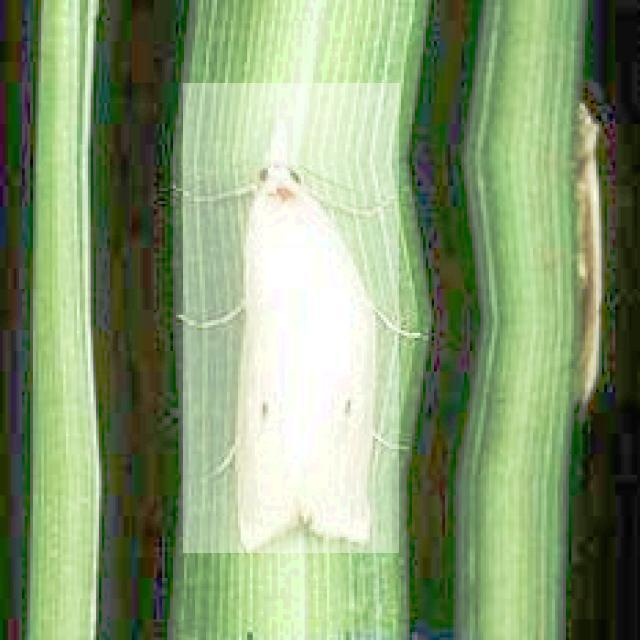stem-borer: (184, 83, 400, 553)
